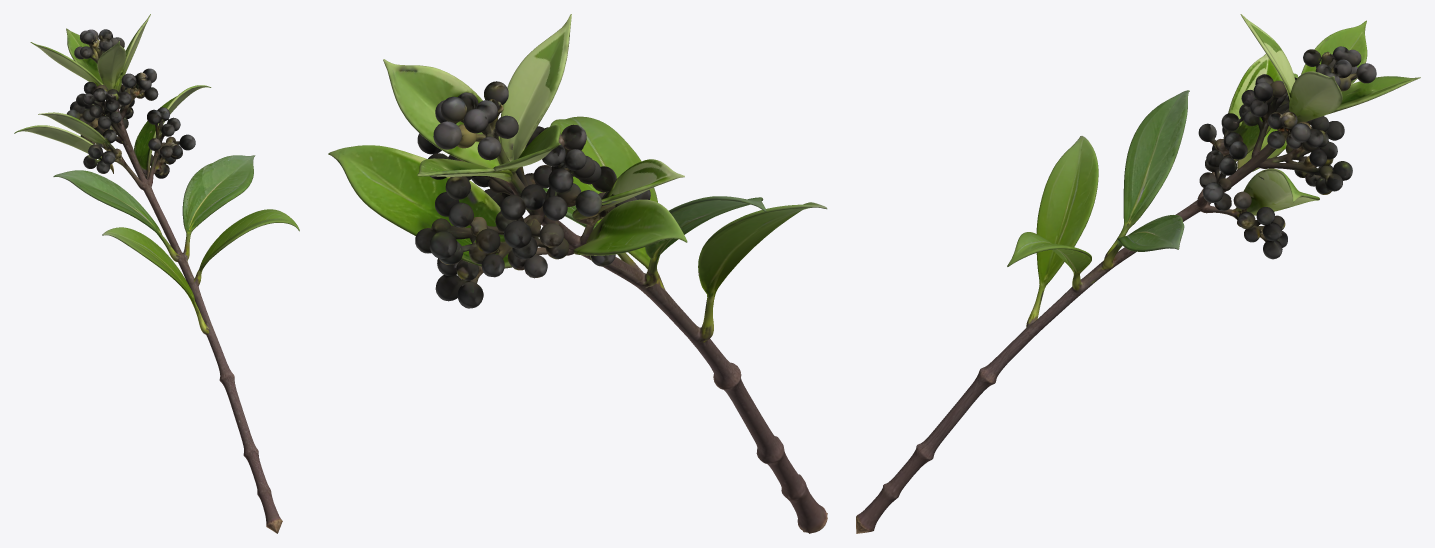
File: bichengqie.glb
The picture shows the model from 3 angles, left to right: view 1: azimuth 30°, elevation 25°; view 2: azimuth 150°, elevation 25°; view 3: azimuth 270°, elevation 25°; orthographic projection. The views are drawn at different scales.
Parts seen in each view (by area): view 1: node_0; view 2: node_0; view 3: node_0.
Part boxes in pixels (x1,y1,x2,y2): node_0: [14, 14, 299, 533]; node_0: [328, 14, 827, 533]; node_0: [856, 14, 1420, 533].
Bounding box in the file's own units: 0.4524 × 0.8493 × 0.8487.
1 material, 1 textured.
